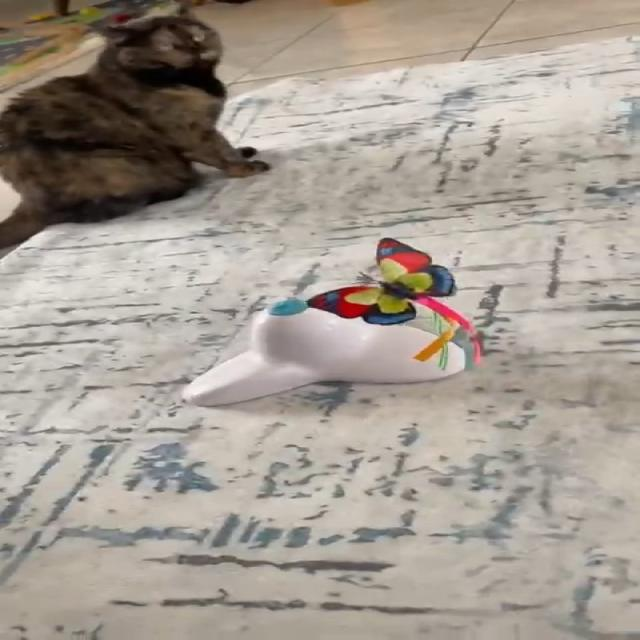authorized: (0, 7, 271, 259)
